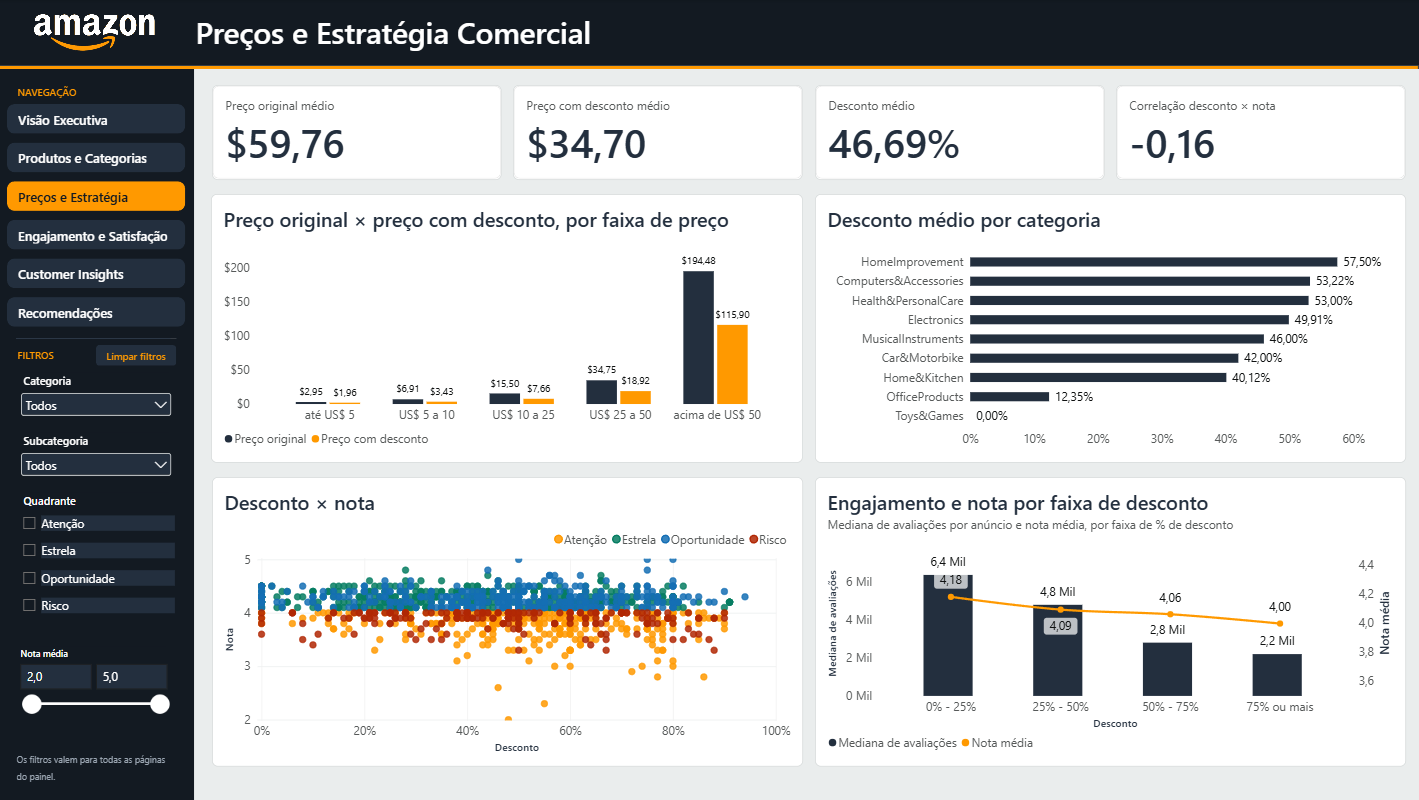

The dashboard page shown, as its layout file describes it:
{"tool":"powerbi","page":{"name":"Preços e Estratégia","canvas":[1920,1080],"ordinal":2},"visuals":[{"type":"textbox","box":[0,0,1920,90],"z":0},{"type":"textbox","box":[0,94,264,986],"z":1000},{"type":"textbox","box":[0,90,1920,4],"z":2000},{"type":"pageNavigator","box":[12,142,240,300],"z":3000},{"type":"textbox","box":[24,112,216,24],"z":4000},{"type":"textbox","box":[24,456,216,1],"z":5000},{"type":"textbox","box":[24,466,216,24],"z":6000},{"type":"cardVisual","fields":{"Data":["Medidas.Preço original médio (US$)"]},"box":[288,116,390.4,127.8],"z":7000},{"type":"cardVisual","fields":{"Data":["Medidas.Preço com desconto médio (US$)"]},"box":[693.9,116,390.4,127.8],"z":8000},{"type":"cardVisual","fields":{"Data":["Medidas.Desconto médio (%)"]},"box":[1099.7,116,390.4,127.8],"z":9000},{"type":"cardVisual","fields":{"Data":["Medidas.Correlação desconto × nota"]},"box":[1505.6,116,390.4,127.8],"z":10000},{"type":"clusteredColumnChart","title":"Preço original × preço com desconto, por faixa de preço","fields":{"Category":["dProdutos.faixa_preco"],"Y":["Medidas.Preço original médio (US$)","Medidas.Preço com desconto médio (US$)"]},"box":[287.4,262.6,796.6,361.8],"z":11000},{"type":"clusteredBarChart","title":"Desconto médio por categoria","fields":{"Category":["dProdutos.categoria_principal"],"Y":["Medidas.Desconto médio (%)"]},"box":[1099.7,263,796.3,362.1],"z":12000},{"type":"scatterChart","title":"Desconto × nota","fields":{"Category":["dProdutos.product_id"],"Series":["dProdutos.quadrante"],"X":["Medidas.Desconto médio (%)"],"Y":["Medidas.Nota média"]},"box":[288,644.2,796.3,389.8],"z":13000},{"type":"lineStackedColumnComboChart","title":"Engajamento e nota por faixa de desconto","fields":{"Category":["dProdutos.faixa_desconto"],"Y":["Medidas.Mediana de avaliações"],"Y2":["Medidas.media_rating"]},"box":[1099.7,644.2,796.3,389.8],"z":14000},{"type":"textbox","box":[23.3,1009.6,217.4,51.1],"z":15000},{"type":"image","box":[20.4,0,218.8,90.5],"z":16000},{"type":"slicer","fields":{"Values":["dProdutos.categoria_nivel2"]},"box":[16,576,232,66],"z":17000},{"type":"slicer","fields":{"Values":["dProdutos.categoria_principal"]},"box":[16,496,232,66],"z":18000},{"type":"slicer","fields":{"Values":["dProdutos.rating"]},"box":[11.7,865.2,232,110],"z":19000},{"type":"slicer","fields":{"Values":["dProdutos.quadrante"]},"box":[16,656.5,232,188.2],"z":20000},{"type":"actionButton","box":[132,466,108,28],"z":22000}]}

Visuals, with their boxes on the page's 1920x1080 design canvas (x1, y1, x2, y2). These are canvas units, not pixel positions in the 1419x800 screenshot, which may show the page scaled, cropped or inside an application window:
textbox: box=[0, 0, 1920, 90]
textbox: box=[0, 94, 264, 1080]
textbox: box=[0, 90, 1920, 94]
pageNavigator: box=[12, 142, 252, 442]
textbox: box=[24, 112, 240, 136]
textbox: box=[24, 456, 240, 457]
textbox: box=[24, 466, 240, 490]
cardVisual - Medidas.Preço original médio (US$): box=[288, 116, 678, 244]
cardVisual - Medidas.Preço com desconto médio (US$): box=[694, 116, 1084, 244]
cardVisual - Medidas.Desconto médio (%): box=[1100, 116, 1490, 244]
cardVisual - Medidas.Correlação desconto × nota: box=[1506, 116, 1896, 244]
"Preço original × preço com desconto, por faixa de preço" clusteredColumnChart: box=[287, 263, 1084, 624]
"Desconto médio por categoria" clusteredBarChart: box=[1100, 263, 1896, 625]
"Desconto × nota" scatterChart: box=[288, 644, 1084, 1034]
"Engajamento e nota por faixa de desconto" lineStackedColumnComboChart: box=[1100, 644, 1896, 1034]
textbox: box=[23, 1010, 241, 1061]
image: box=[20, 0, 239, 90]
slicer - dProdutos.categoria_nivel2: box=[16, 576, 248, 642]
slicer - dProdutos.categoria_principal: box=[16, 496, 248, 562]
slicer - dProdutos.rating: box=[12, 865, 244, 975]
slicer - dProdutos.quadrante: box=[16, 656, 248, 845]
actionButton: box=[132, 466, 240, 494]
